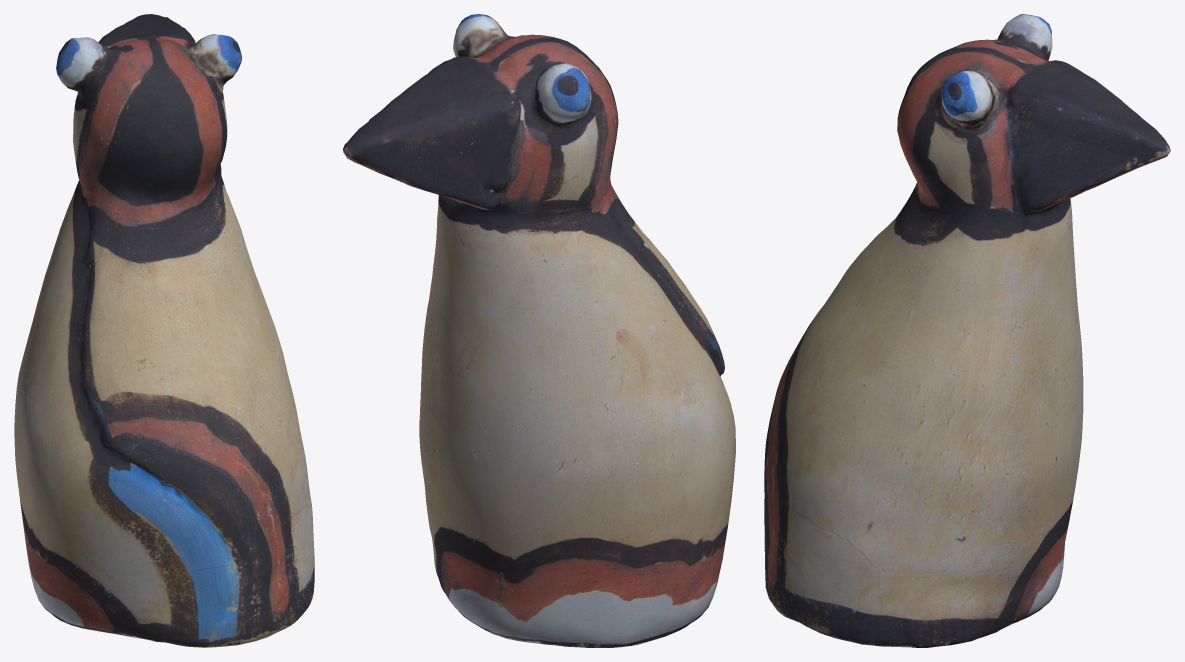
3 renders of one model, left to right at view 1: azimuth 30°, elevation 25°; view 2: azimuth 150°, elevation 25°; view 3: azimuth 270°, elevation 25°, orthographic. The views are drawn at different scales.
Parts seen in each view (by area): view 1: 7-8-4k; view 2: 7-8-4k; view 3: 7-8-4k.
Part boxes in pixels (bbox=[...]): 7-8-4k: bbox=[14, 14, 314, 647]; 7-8-4k: bbox=[343, 14, 735, 647]; 7-8-4k: bbox=[764, 14, 1170, 647].
Size of the model in its own units: 0.3418 by 0.679 by 0.4498.
1 material, 1 textured.
